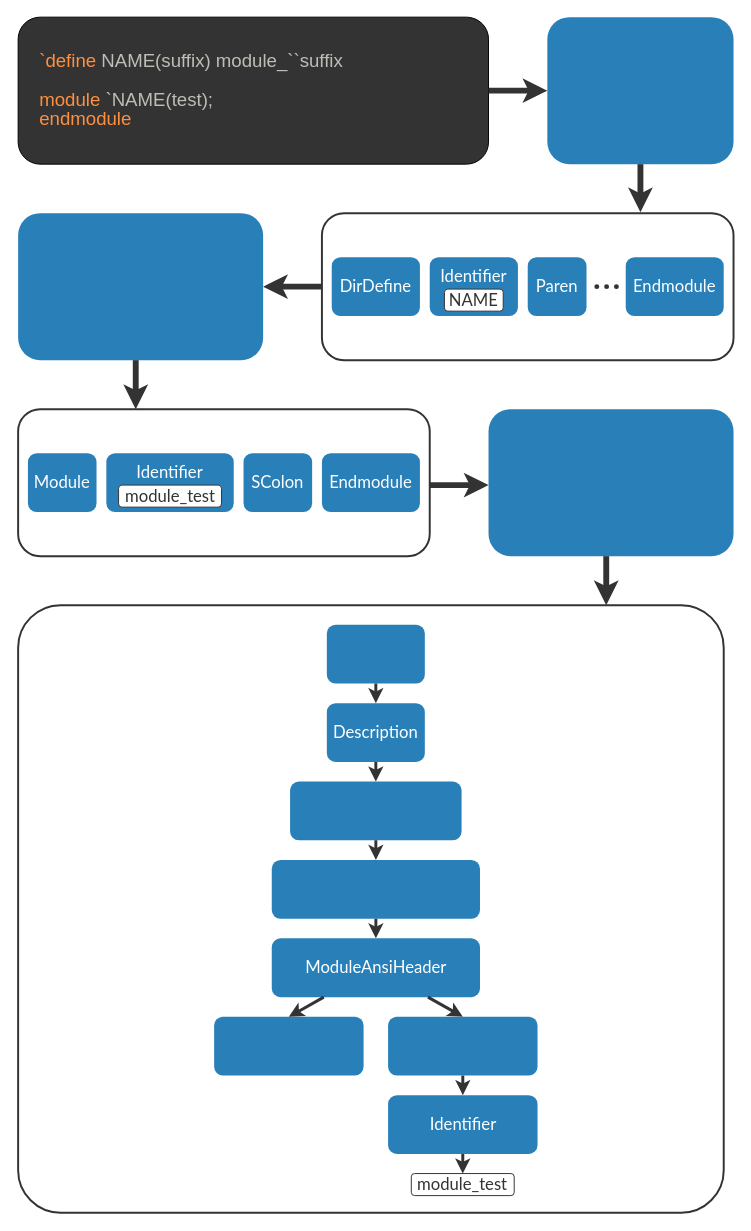
This 751x1231 diagram has some shape labels left out. Here are the shapes that lost their labels. From the top down, the box of each, then its label:
(547, 17, 733, 164): Lexing
(18, 213, 263, 360): Preprocessing
(488, 409, 733, 556): Parsing
(326, 624, 424, 683): SourceText
(290, 781, 461, 840): ModuleDeclaration
(271, 859, 480, 918): ModuleDeclarationAnsi
(214, 1016, 363, 1075): ModuleKeyword
(388, 1016, 537, 1075): ModuleIdentifier
